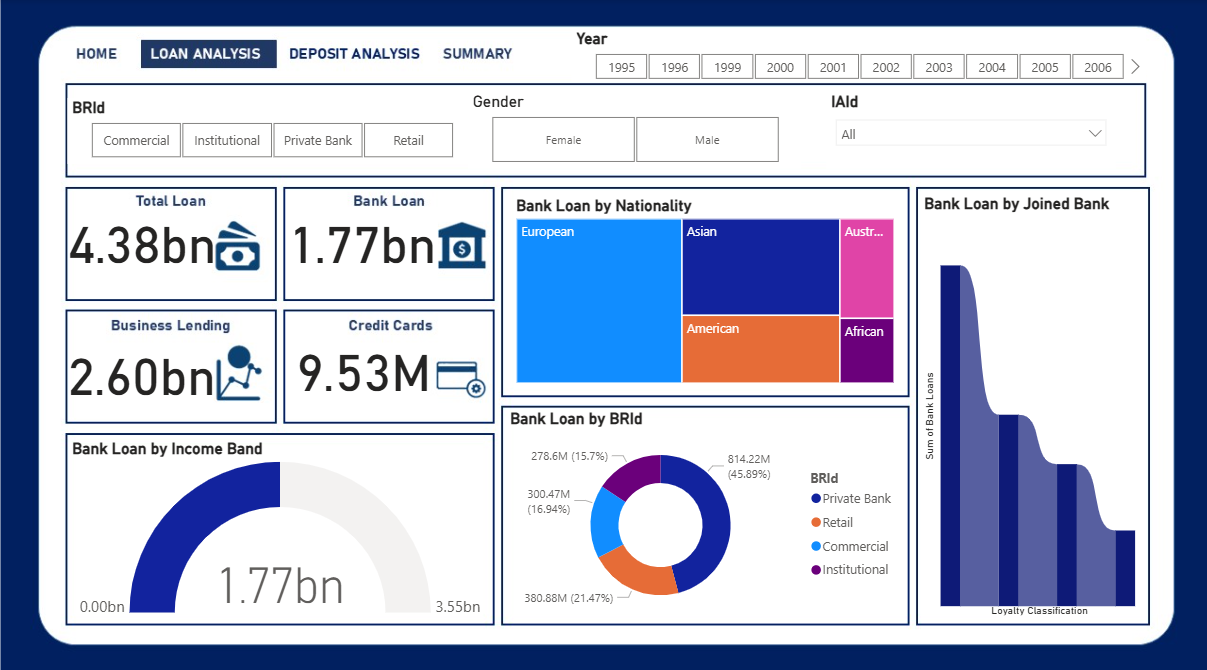

The dashboard page shown, as its layout file describes it:
{"tool":"powerbi","page":{"name":"Loan Analysis","canvas":[1280,720],"ordinal":1},"visuals":[{"type":"actionButton","box":[62,39.8,81.1,35],"z":0},{"type":"actionButton","box":[302.2,39.8,149.5,35],"z":1000},{"type":"actionButton","box":[466,39.8,81.1,35],"z":2000},{"type":"actionButton","box":[143.2,39.8,159.1,35],"z":3000},{"type":"card","fields":{"Values":["banking_case customer.Total Loan"]},"box":[62,211.6,176.6,84.3],"z":4000},{"type":"card","fields":{"Values":["Sum(banking_case customer.Bank Loans)"]},"box":[294.3,211.6,178.1,84.3],"z":5000},{"type":"card","fields":{"Values":["Sum(banking_case customer.Business Lending)"]},"box":[60.4,351.5,178.1,84.3],"z":6000},{"type":"card","fields":{"Values":["Sum(banking_case customer.Credit Card Balance)"]},"box":[295.9,346.8,178.1,84.3],"z":7000},{"type":"gauge","title":"Bank Loan by Income Band","fields":{"Y":["Sum(banking_case customer.Bank Loans)"]},"box":[71.6,466,450.1,194.1],"z":8000},{"type":"treemap","title":"Bank Loan by Nationality","fields":{"Group":["banking_case customer.Nationality"],"Values":["Sum(banking_case customer.Bank Loans)"]},"box":[542.4,208.4,410.4,203.6],"z":9000},{"type":"ribbonChart","title":"Bank Loan by Joined Bank","fields":{"Y":["Sum(banking_case customer.Bank Loans)"],"Category":["banking_case customer.Loyalty Classification"]},"box":[975,206.8,237,451.7],"z":10000},{"type":"donutChart","title":"Bank Loan by BRId","fields":{"Category":["banking_case customer.BRId"],"Y":["Sum(banking_case customer.Bank Loans)"]},"box":[536,434.2,423.1,227.5],"z":11000},{"type":"slicer","title":"BRId","fields":{"Values":["banking_case customer.BRId"]},"box":[71.6,105,432.6,70],"z":12000},{"type":"slicer","title":"Gender","fields":{"Values":["banking_case customer.GenderId"]},"box":[496.3,98.6,353.1,81.1],"z":13000},{"type":"slicer","title":"IAId","fields":{"Values":["banking_case customer.IAId"]},"box":[876.4,98.6,307,81.1],"z":14000},{"type":"slicer","title":"Year","fields":{"Values":["banking_case customer.Year of Joining"]},"box":[606,31.8,609.2,55.7],"z":15000}]}

Visuals, with their boxes in screenshot pixels (x1, y1, x2, y2), scaled from the page's 1280x720 canvas onto the 1207x670 screenshot:
actionButton: bbox(58, 37, 135, 70)
actionButton: bbox(285, 37, 426, 70)
actionButton: bbox(439, 37, 516, 70)
actionButton: bbox(135, 37, 285, 70)
card - banking_case customer.Total Loan: bbox(58, 197, 225, 275)
card - Sum(banking_case customer.Bank Loans): bbox(278, 197, 445, 275)
card - Sum(banking_case customer.Business Lending): bbox(57, 327, 225, 406)
card - Sum(banking_case customer.Credit Card Balance): bbox(279, 323, 447, 401)
"Bank Loan by Income Band" gauge: bbox(68, 434, 492, 614)
"Bank Loan by Nationality" treemap: bbox(511, 194, 898, 383)
"Bank Loan by Joined Bank" ribbonChart: bbox(919, 192, 1143, 613)
"Bank Loan by BRId" donutChart: bbox(505, 404, 904, 616)
"BRId" slicer: bbox(68, 98, 475, 163)
"Gender" slicer: bbox(468, 92, 801, 167)
"IAId" slicer: bbox(826, 92, 1116, 167)
"Year" slicer: bbox(571, 30, 1146, 81)
